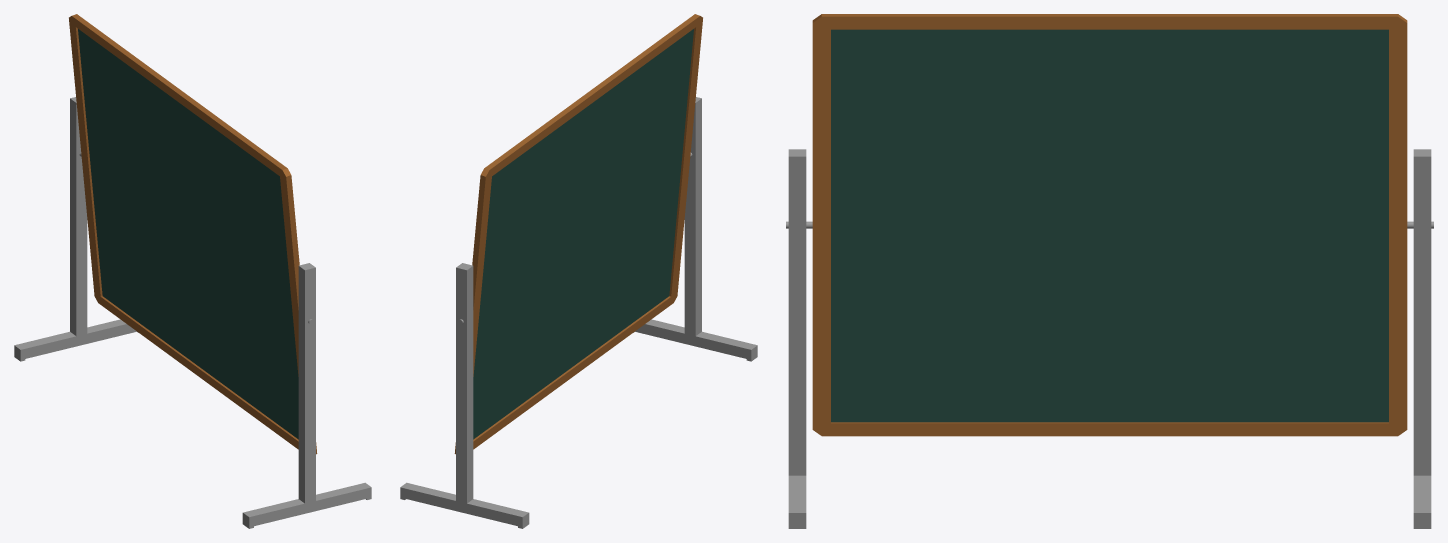
File: Lavagna v3.fbx
3 views of the same model, side by side, from view 1: azimuth 30°, elevation 25°; view 2: azimuth 150°, elevation 25°; view 3: azimuth 270°, elevation 25° (orthographic). The views are drawn at different scales.
Parts seen in each view (by area): view 1: Lavagna.001, Pali, Cornice; view 2: Lavagna.001, Pali, Cornice; view 3: Lavagna.001, Cornice, Pali.
Boxes of the visible parts, x1,y1,x2,y2 form: Lavagna.001: (78, 29, 298, 439); Pali: (14, 97, 371, 528); Cornice: (69, 14, 317, 454); Lavagna.001: (473, 29, 693, 439); Pali: (400, 97, 757, 528); Cornice: (454, 14, 702, 454); Lavagna.001: (831, 29, 1388, 422); Cornice: (812, 14, 1407, 436); Pali: (786, 149, 1433, 528).
Size of the model in its own units: 88.28 by 234 by 296.
